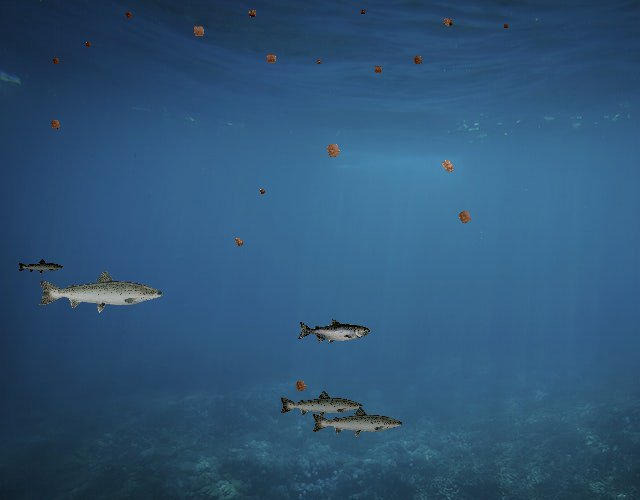Fish: (36, 268, 165, 314), (310, 405, 404, 439), (278, 389, 364, 420), (297, 319, 370, 345), (18, 259, 65, 276)
Pellet: (434, 153, 461, 180), (452, 204, 478, 230), (187, 20, 210, 43), (290, 375, 312, 397), (230, 233, 248, 251), (122, 8, 136, 22), (256, 185, 268, 197)
